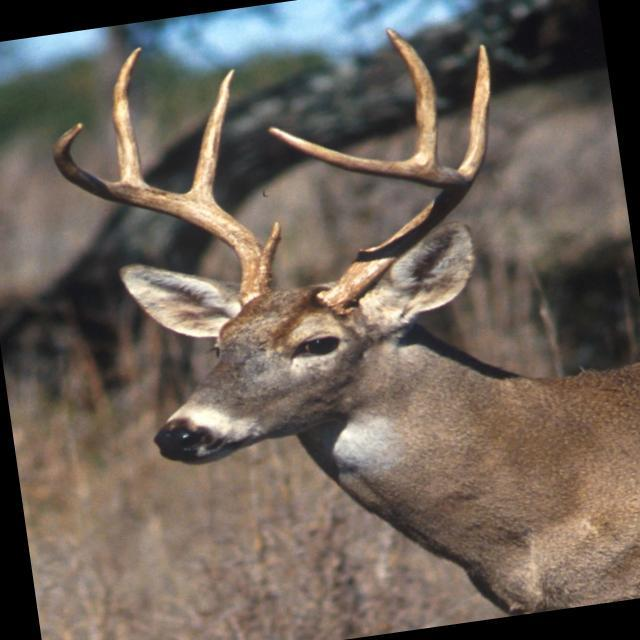L-F: (268, 126, 473, 311)
L-G2: (455, 43, 492, 185)
L-G3: (386, 29, 441, 164)
R-F: (52, 122, 269, 303)
R-G1: (259, 221, 282, 278)
R-G2: (188, 69, 235, 201)
R-G3: (112, 47, 147, 185)
